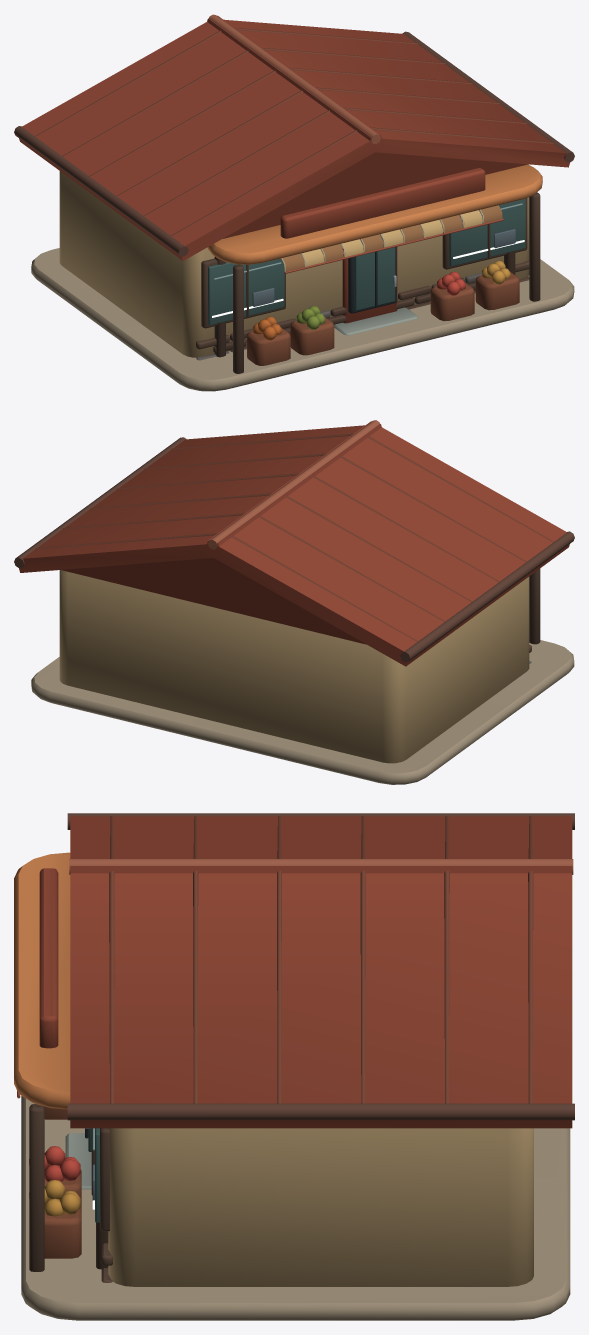
The model's file is valley_market.glb.
The picture shows the model from 3 angles, top to bottom: view 1: azimuth 30°, elevation 25°; view 2: azimuth 150°, elevation 25°; view 3: azimuth 270°, elevation 25°; orthographic projection. The views are drawn at different scales.
Visible parts, largest first — view 1: Market; view 2: Market; view 3: Market.
Boxes of the visible parts, bbox=[...] form: Market: bbox=[14, 14, 574, 391]; Market: bbox=[14, 420, 574, 784]; Market: bbox=[14, 813, 574, 1320].
Bounding box in the file's own units: 8.28 × 4.09 × 6.59.
